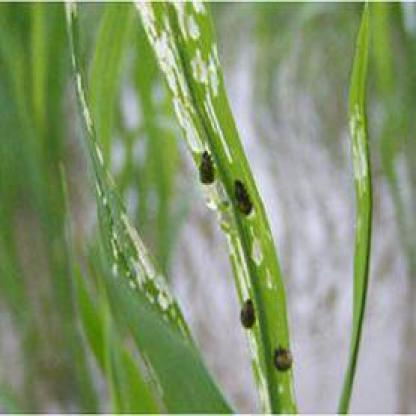rice-bug: (232, 177, 252, 215), (197, 151, 218, 186), (237, 294, 254, 330), (276, 340, 292, 372)
